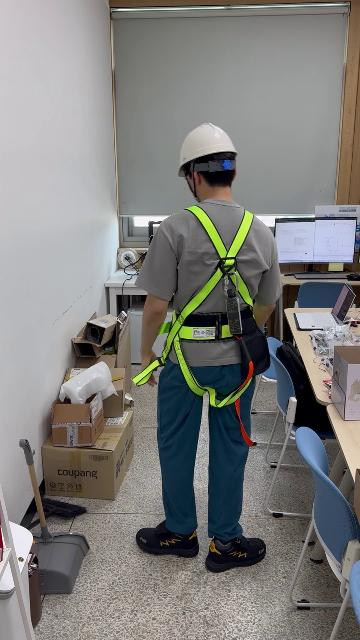helmet_worn: (176, 121, 238, 177)
shoe_worn: (136, 520, 199, 557), (205, 535, 266, 572)
vest_worn: (136, 211, 263, 393)
